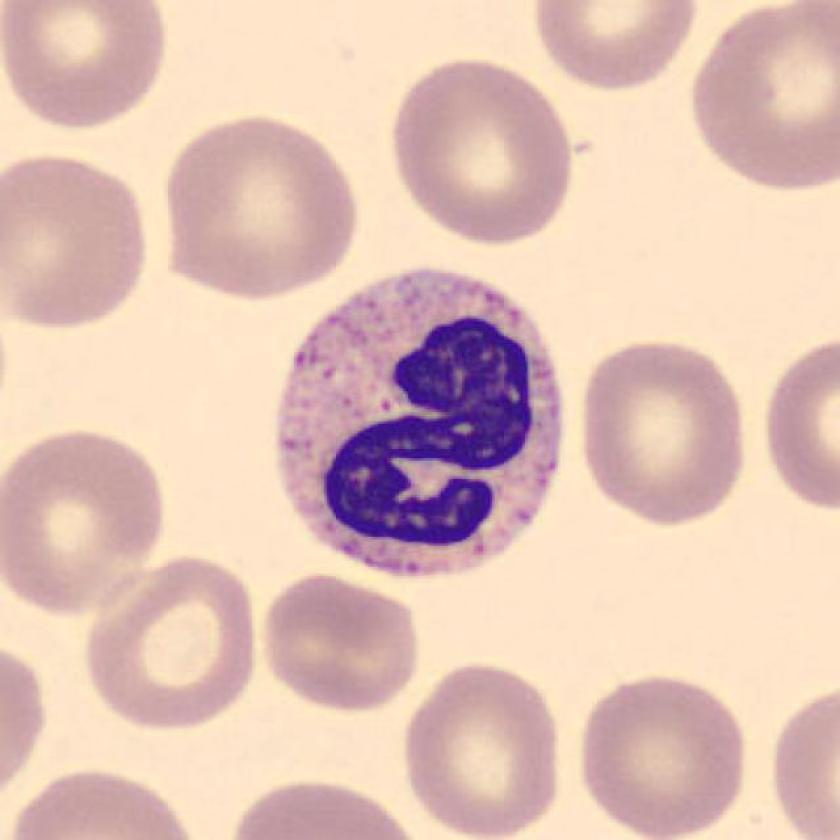neutrophil: (278, 269, 564, 584)
